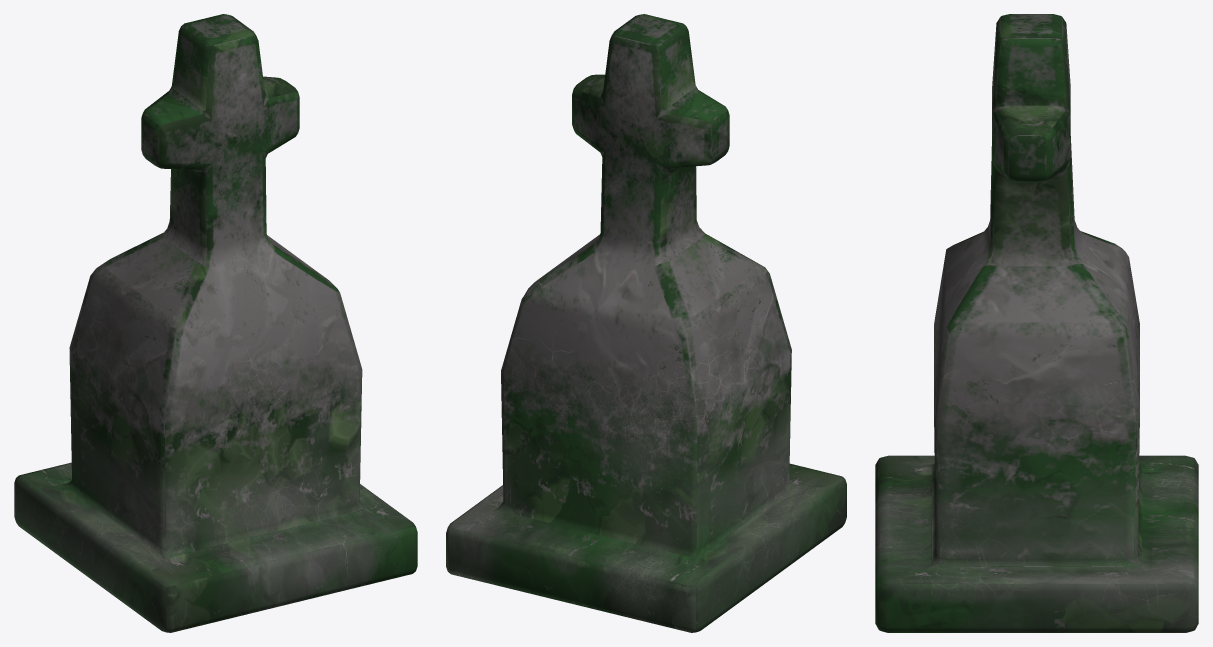
Rendered from grave2.fbx.
3 views of the same model, side by side, from view 1: azimuth 30°, elevation 25°; view 2: azimuth 150°, elevation 25°; view 3: azimuth 270°, elevation 25° (orthographic). The views are drawn at different scales.
Parts seen in each view (by area): view 1: grave2; view 2: grave2; view 3: grave2.
Part boxes in pixels (x1=…): grave2: x1=14, y1=14, x2=417, y2=632; grave2: x1=446, y1=14, x2=846, y2=632; grave2: x1=875, y1=14, x2=1198, y2=632.
Size of the model in its own units: 265 by 521 by 279.
1 material, 1 textured.
